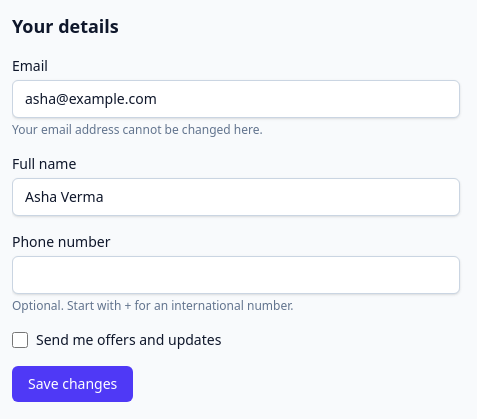
it: ProfileForm › shows the server message next to the field it is about
Check: the field showing "Asha Verma" is shown, box [12,178,460,216]
Click the button "Save changes".
click(73, 384)  # box [12,366,133,402]
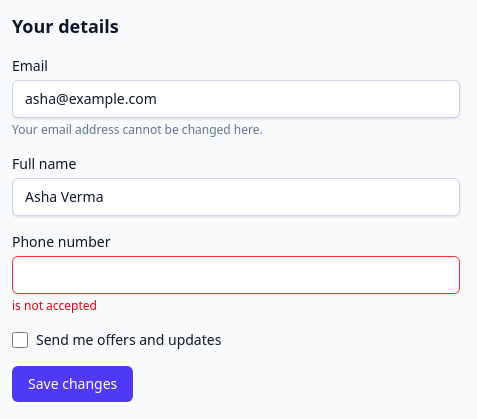
Check: the text "is not accepted" is shown, box [12,297,97,314]
